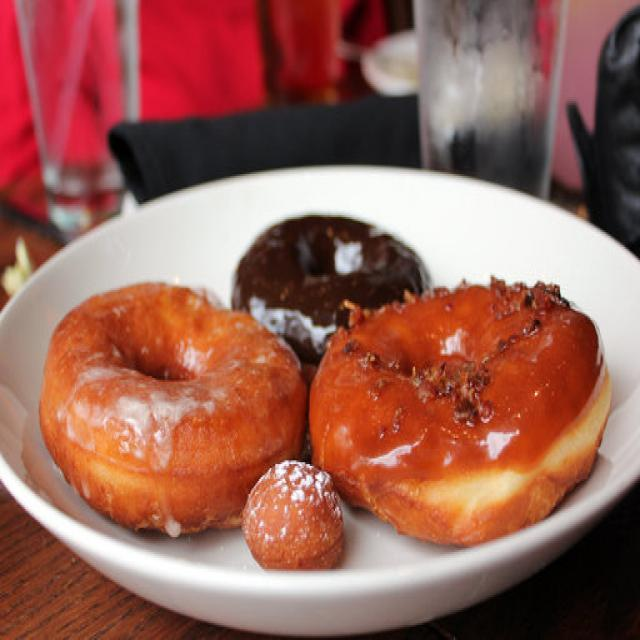Donuts: (46, 210, 634, 562)
